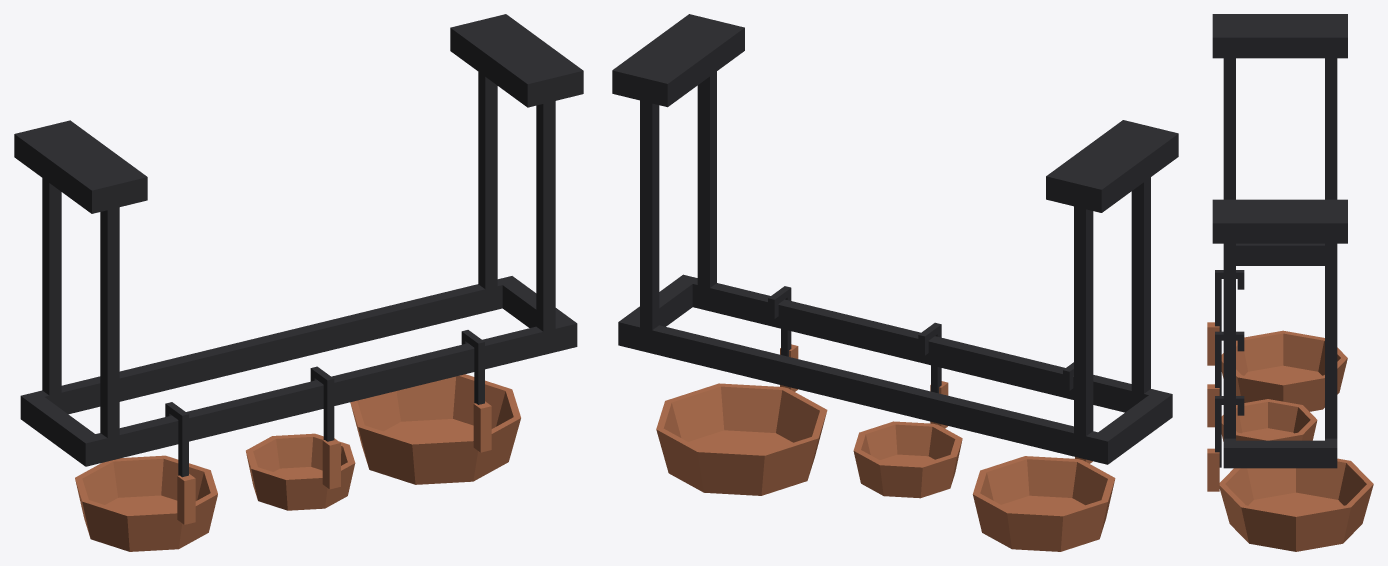
File: FN_Rack_Pot.glb
3 renders of one model, left to right at view 1: azimuth 30°, elevation 25°; view 2: azimuth 150°, elevation 25°; view 3: azimuth 270°, elevation 25°, orthographic. The views are drawn at different scales.
Parts seen in each view (by area): view 1: FN_Rack_Pot; view 2: FN_Rack_Pot; view 3: FN_Rack_Pot.
Part boxes in pixels (bbox=[...]): FN_Rack_Pot: bbox=[14, 14, 583, 551]; FN_Rack_Pot: bbox=[612, 14, 1178, 551]; FN_Rack_Pot: bbox=[1207, 14, 1373, 551].
Size of the model in its own units: 0.88 by 0.673 by 0.296.
1 material, 1 textured.
